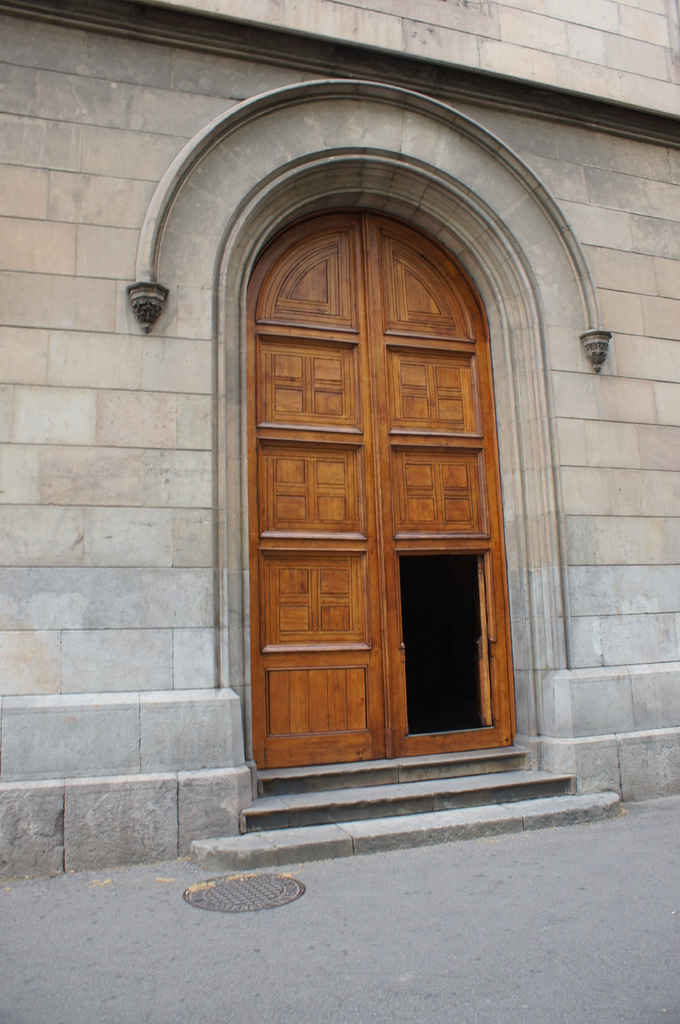door: (259, 269, 375, 764), (377, 259, 491, 737)
